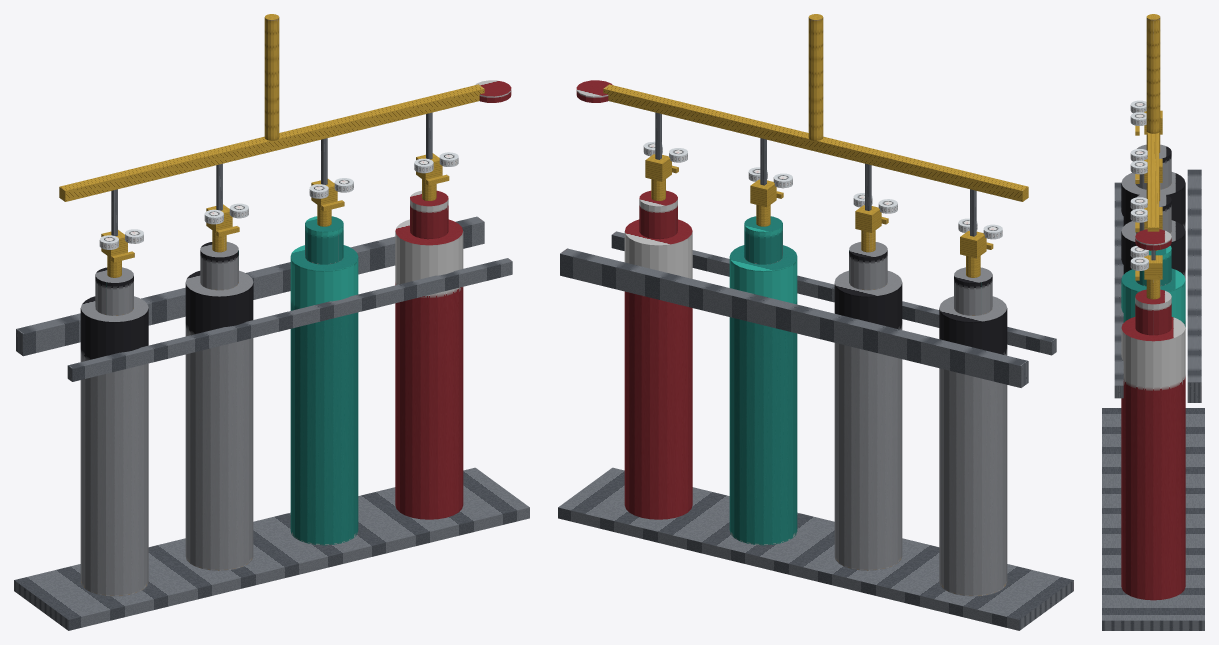
Rendered from prop_gas_cylinder_manifold.glb.
3 views of the same model, side by side, from view 1: azimuth 30°, elevation 25°; view 2: azimuth 150°, elevation 25°; view 3: azimuth 270°, elevation 25° (orthographic). The views are drawn at different scales.
Visible parts, largest first — view 1: Prop_Gas_Cylinder_Manifold; view 2: Prop_Gas_Cylinder_Manifold; view 3: Prop_Gas_Cylinder_Manifold.
Part boxes in pixels (x1,y1,x2,y2): Prop_Gas_Cylinder_Manifold: [14, 14, 529, 630]; Prop_Gas_Cylinder_Manifold: [558, 14, 1073, 630]; Prop_Gas_Cylinder_Manifold: [1102, 14, 1204, 630].
Bounding box in the file's own units: 2.23 × 2.45 × 0.45.
1 material, 1 textured.
